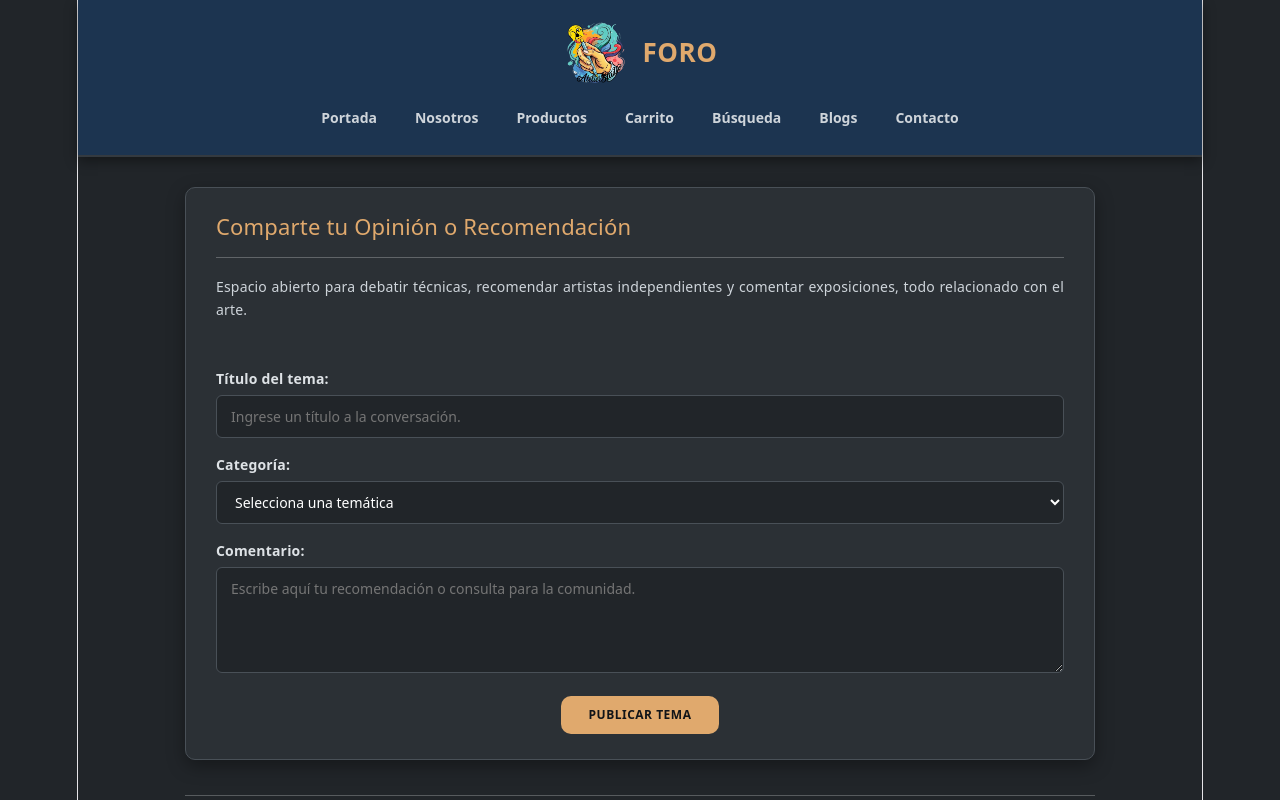
Test case: Pruebas Unitarias: Componente Foro › CP-FORO-04: Con sesión activa, permite publicar un tema nuevo y visualizarlo en la lista
The width and height of the screenshot is (1280, 800).
In the field with placeholder "Ingrese un título a la conversación.": (640, 416) [216,395,1064,438], type "Nueva técnica de veladuras al óleo"
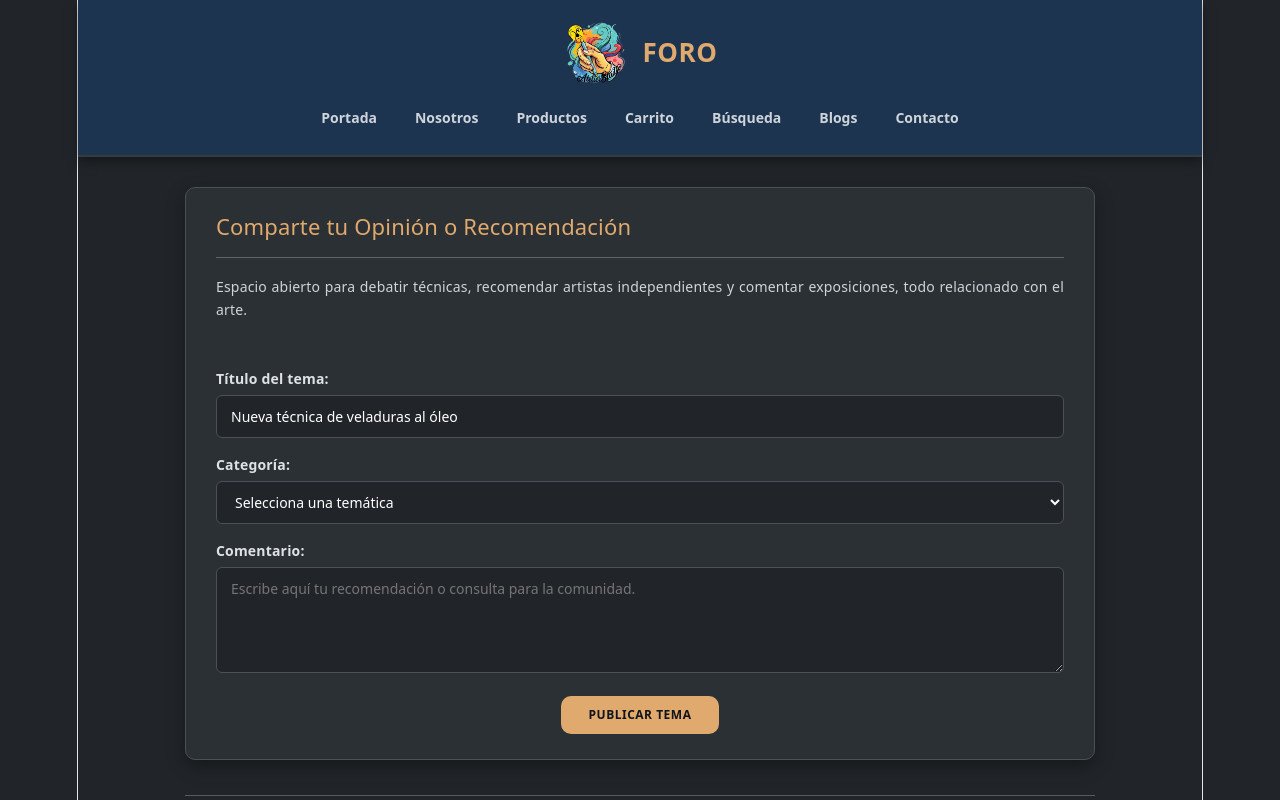
Select "Técnicas y Materiales" in the dropdown: (640, 502) [216,481,1064,524]
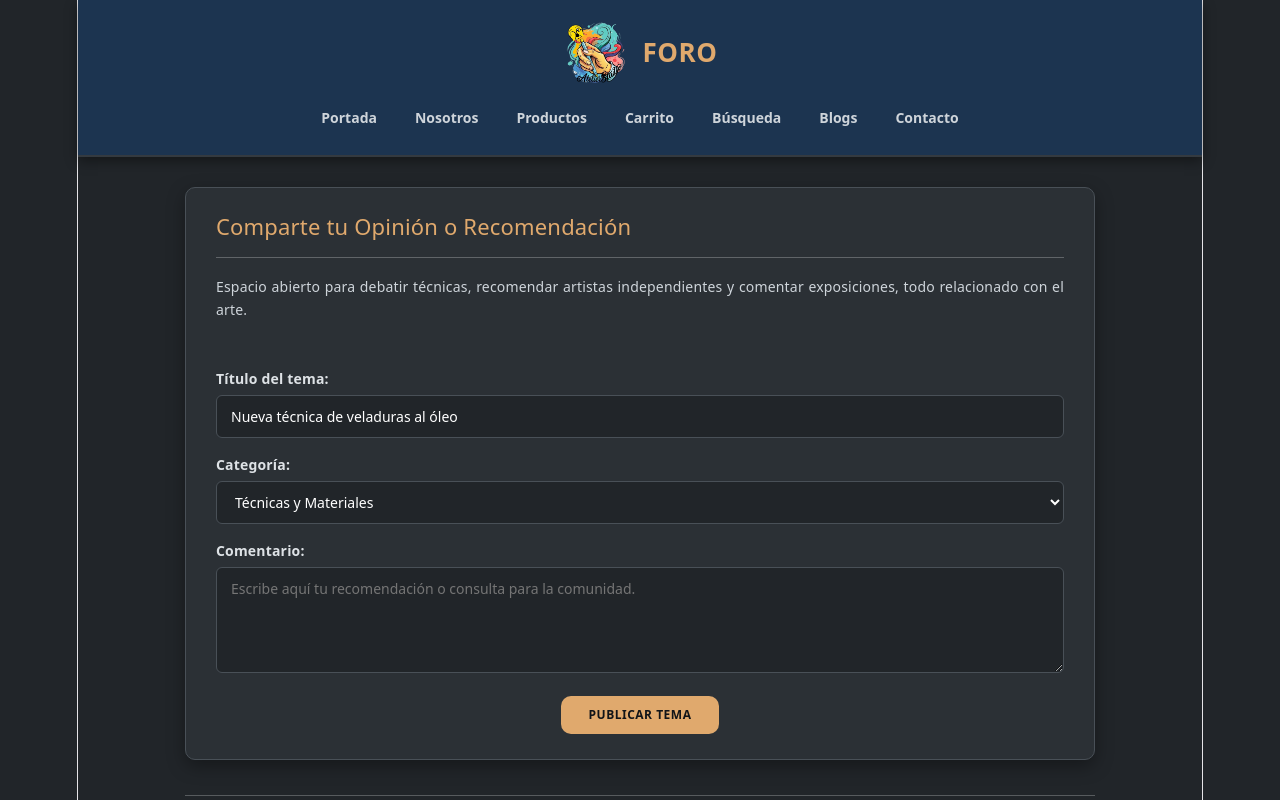
In the text box with placeholder "Escribe aquí tu recomendación o consulta para la comunidad.": (640, 620) [216,567,1064,673], type "Recomiendo aplicar capas muy finas con aceite de lino puro"
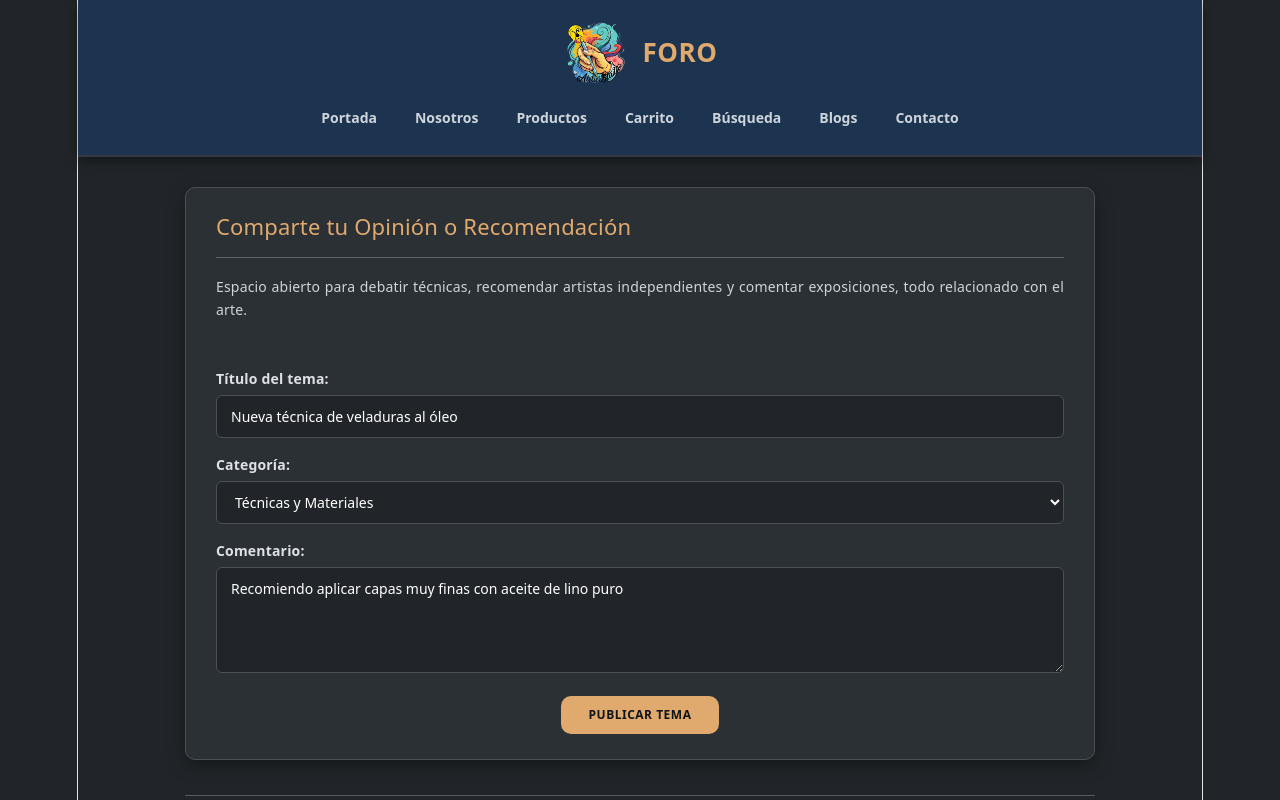
Click the button "PUBLICAR TEMA": click(640, 715) [561,696,720,734]
(page scrolled)
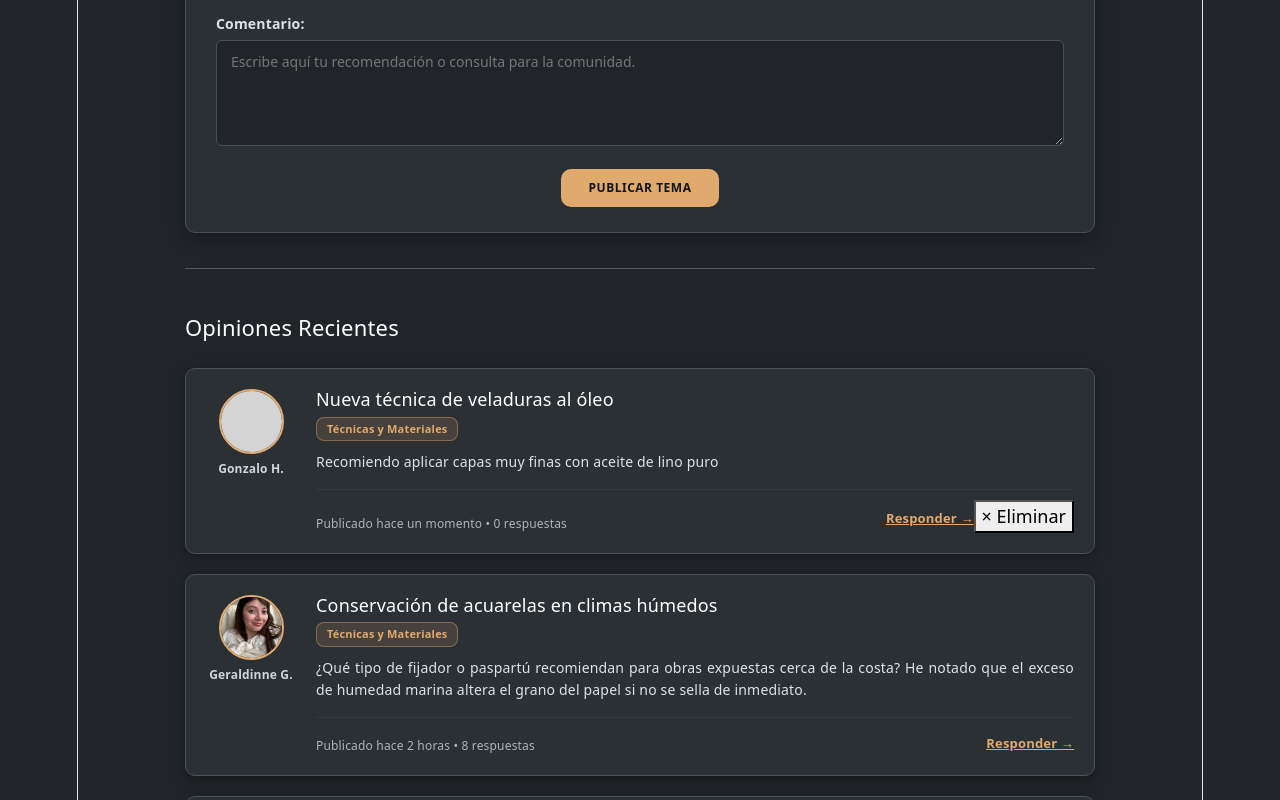
Now the heading "Nueva técnica de veladuras al óleo" is shown, box [316,387,614,411]
